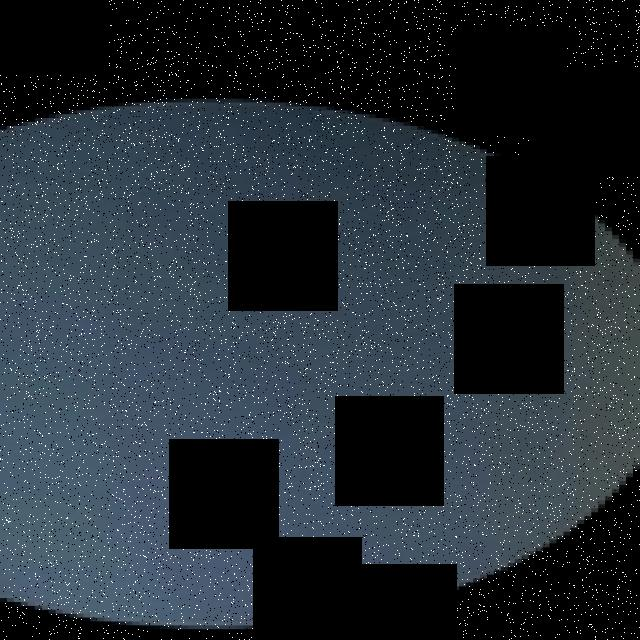Uranus: (0, 94, 640, 632)
